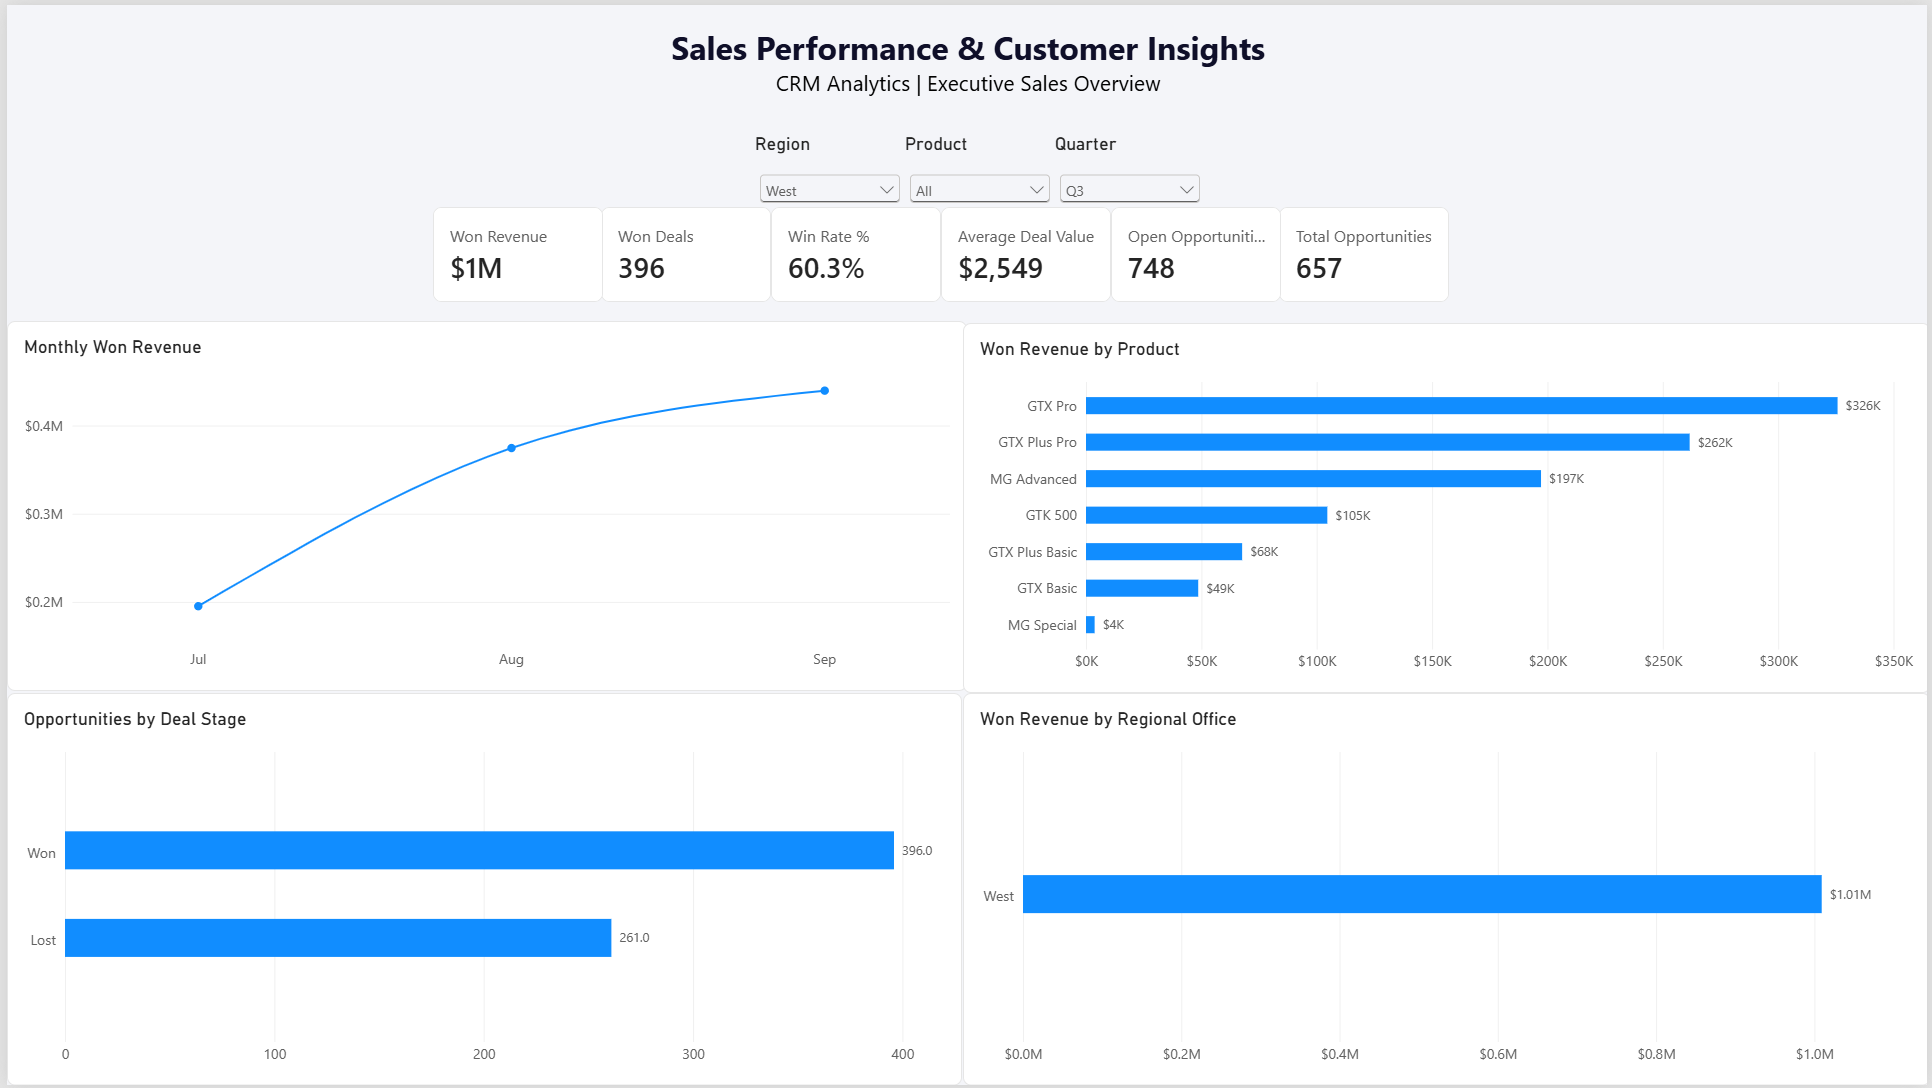

The dashboard page shown, as its layout file describes it:
{"tool":"powerbi","page":{"name":"Executive Sales Overview","canvas":[1920,1080],"ordinal":0},"visuals":[{"type":"cardVisual","fields":{"Data":["sales pipeline.Total Opportunities"]},"box":[1272.5,201.2,170,95],"z":0},{"type":"cardVisual","fields":{"Data":["sales pipeline.Won Deals"]},"box":[594.5,201.2,170,95],"z":1000},{"type":"cardVisual","fields":{"Data":["sales pipeline.Win Rate %"]},"box":[764,201.2,170,95],"z":2000},{"type":"cardVisual","fields":{"Data":["sales pipeline.Average Deal Value"]},"box":[933.5,201.2,170,95],"z":3000},{"type":"cardVisual","fields":{"Data":["sales pipeline.Open Opportunities"]},"box":[1103,201.2,170,95],"z":4000},{"type":"lineChart","title":"Monthly Won Revenue","fields":{"Category":["Date.Month"],"Y":["sales pipeline.Won Revenue"]},"box":[0,315,960,370],"z":6000},{"type":"clusteredBarChart","title":"Opportunities by Deal Stage","fields":{"Category":["sales pipeline.deal_stage"],"Y":["sales pipeline.Total Opportunities"]},"box":[0,687.5,955,392.5],"z":7000},{"type":"clusteredBarChart","title":"Won Revenue by Regional Office","fields":{"Category":["sales teams.regional_office"],"Y":["sales pipeline.Won Revenue"]},"box":[955,687.5,967.5,392.5],"z":8000},{"type":"barChart","title":"Won Revenue by Product","fields":{"Category":["products.product"],"Y":["sales pipeline.Won Revenue"]},"box":[955,317.5,967.5,370],"z":9000},{"type":"slicer","title":"Region","fields":{"Values":["sales teams.regional_office"]},"box":[748.8,128.8,150,95],"z":10000},{"type":"slicer","title":"Product","fields":{"Values":["products.product"]},"box":[898.8,128.8,150,95],"z":11000},{"type":"slicer","title":"Quarter ","fields":{"Values":["Date.Quarter"]},"box":[1048.8,128.8,150,95],"z":12000},{"type":"textbox","box":[0,20,1922.5,82.5],"z":13000},{"type":"cardVisual","fields":{"Data":["sales pipeline.Won Revenue"]},"box":[425,201.2,170,95],"z":14001}]}

Visuals, with their boxes in screenshot pixels (x1, y1, x2, y2), scaled from the page's 1920x1080 canvas onto the 1932x1088 screenshot:
cardVisual - sales pipeline.Total Opportunities: [left=1280, top=203, right=1452, bottom=298]
cardVisual - sales pipeline.Won Deals: [left=598, top=203, right=769, bottom=298]
cardVisual - sales pipeline.Win Rate %: [left=769, top=203, right=940, bottom=298]
cardVisual - sales pipeline.Average Deal Value: [left=939, top=203, right=1110, bottom=298]
cardVisual - sales pipeline.Open Opportunities: [left=1110, top=203, right=1281, bottom=298]
"Monthly Won Revenue" lineChart: [left=0, top=317, right=966, bottom=690]
"Opportunities by Deal Stage" clusteredBarChart: [left=0, top=693, right=961, bottom=1087]
"Won Revenue by Regional Office" clusteredBarChart: [left=961, top=693, right=1931, bottom=1087]
"Won Revenue by Product" barChart: [left=961, top=320, right=1931, bottom=693]
"Region" slicer: [left=753, top=130, right=904, bottom=225]
"Product" slicer: [left=904, top=130, right=1055, bottom=225]
"Quarter " slicer: [left=1055, top=130, right=1206, bottom=225]
textbox: [left=0, top=20, right=1931, bottom=103]
cardVisual - sales pipeline.Won Revenue: [left=428, top=203, right=599, bottom=298]
